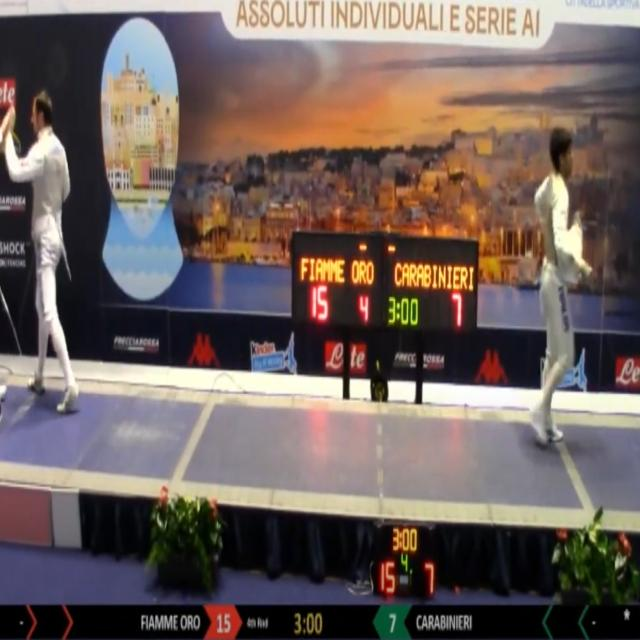fencer: (5, 93, 81, 424), (525, 117, 593, 467)
overlayLeft: (75, 606, 200, 640)
overlayRight: (414, 604, 543, 640)
scoreLeft: (203, 604, 243, 640)
scoreRight: (369, 604, 413, 640)
